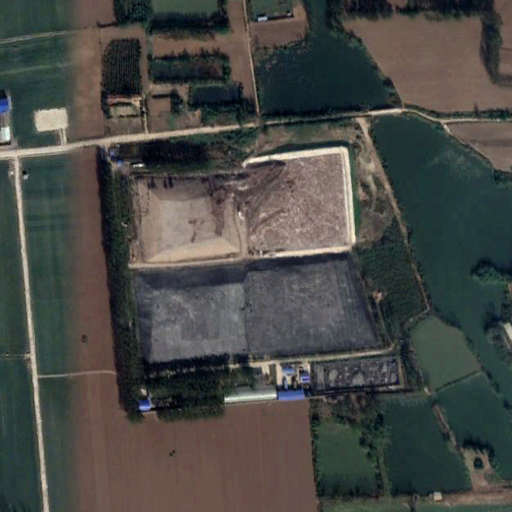lf: (121, 149, 392, 362)
